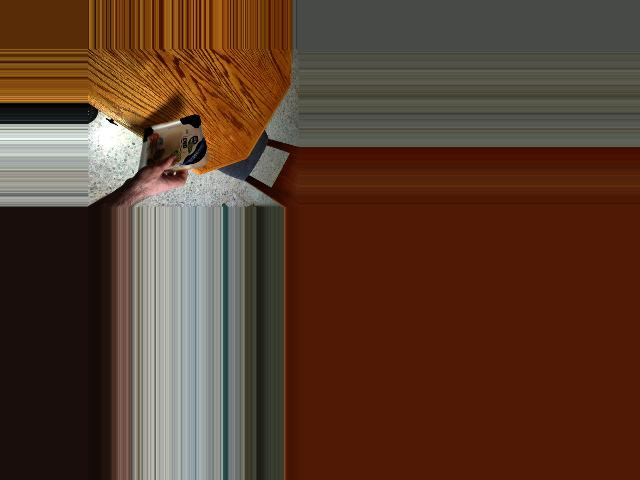cheese: (130, 119, 211, 170)
